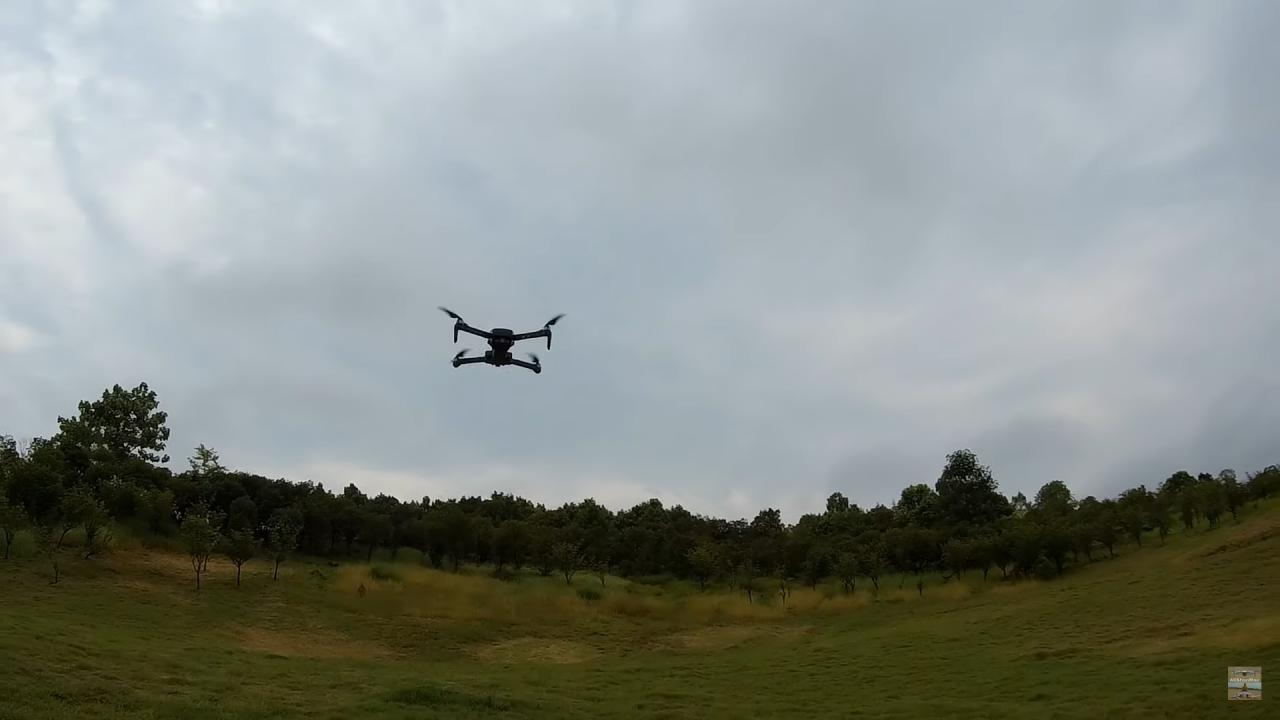Drone: (426, 295, 572, 382)
